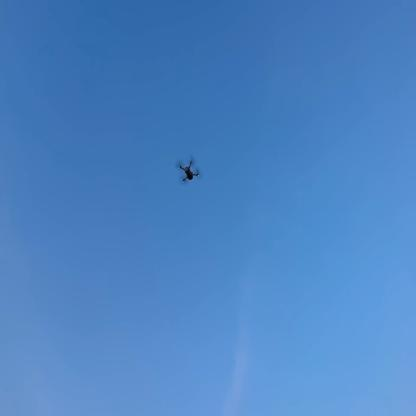drone: (174, 153, 206, 186)
